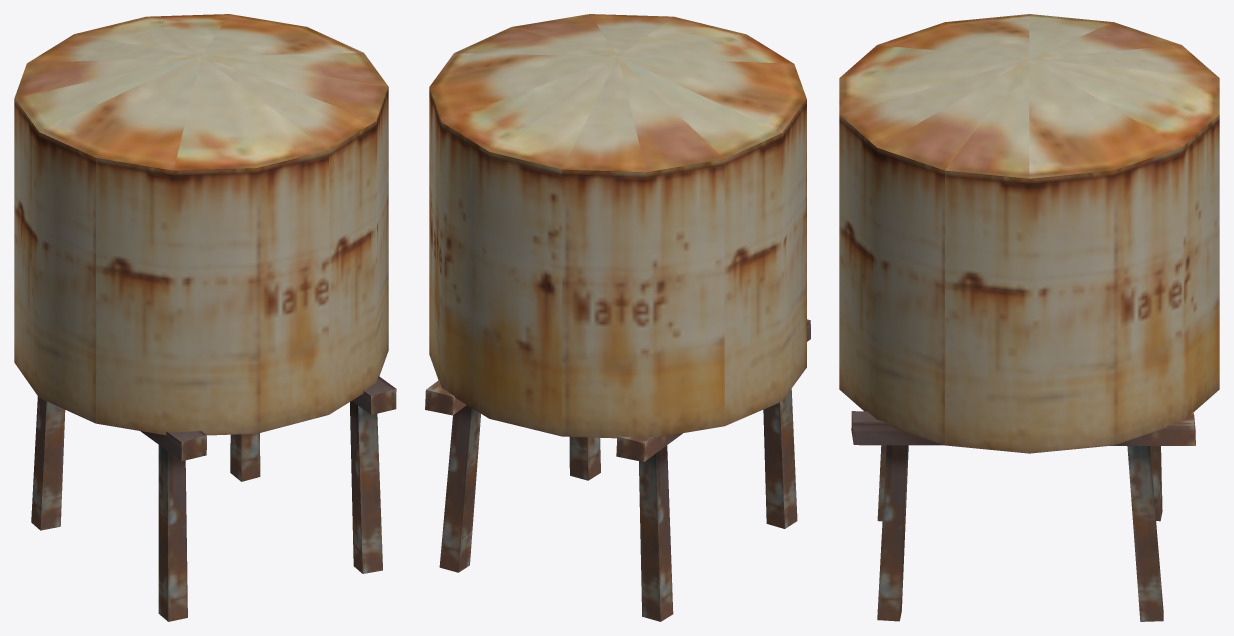
The model's file is water_tank.glb.
The picture shows the model from 3 angles, left to right: view 1: azimuth 30°, elevation 25°; view 2: azimuth 150°, elevation 25°; view 3: azimuth 270°, elevation 25°; orthographic projection. The views are drawn at different scales.
Visible parts, largest first — view 1: watertank01_elements_0; view 2: watertank01_elements_0; view 3: watertank01_elements_0.
Boxes of the visible parts, left/top/right/bottom form: watertank01_elements_0: left=14, top=14, right=396, bottom=621; watertank01_elements_0: left=425, top=14, right=810, bottom=621; watertank01_elements_0: left=839, top=14, right=1219, bottom=621.
Size of the model in its own units: 0.5953 by 0.8536 by 0.5803.
Materials: 1 (1 with a texture image).
